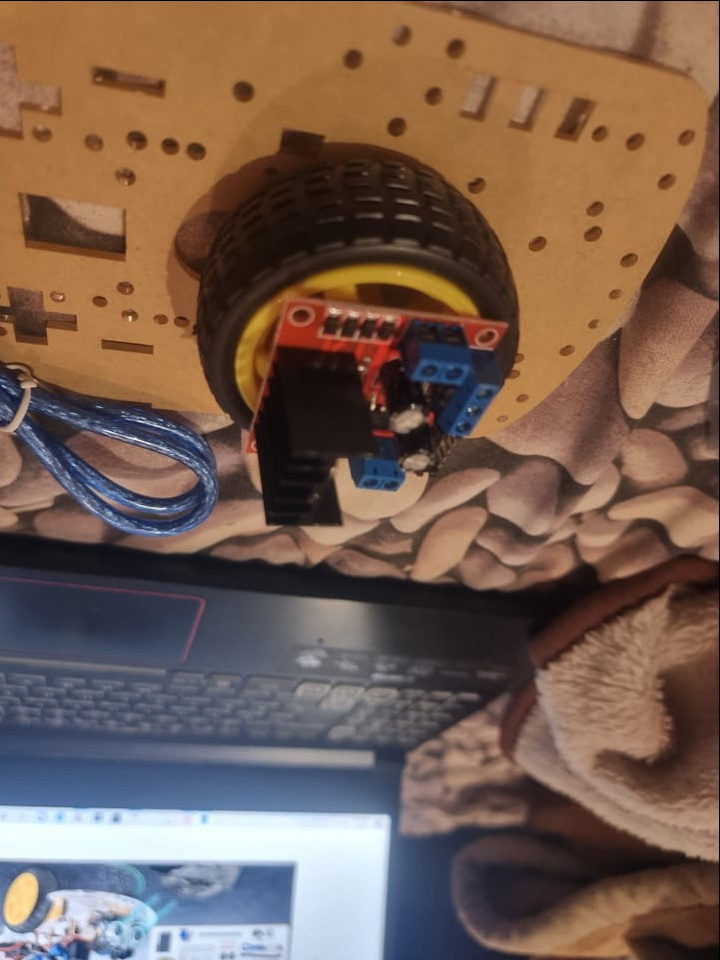MOTOR: (241, 295, 508, 528)
